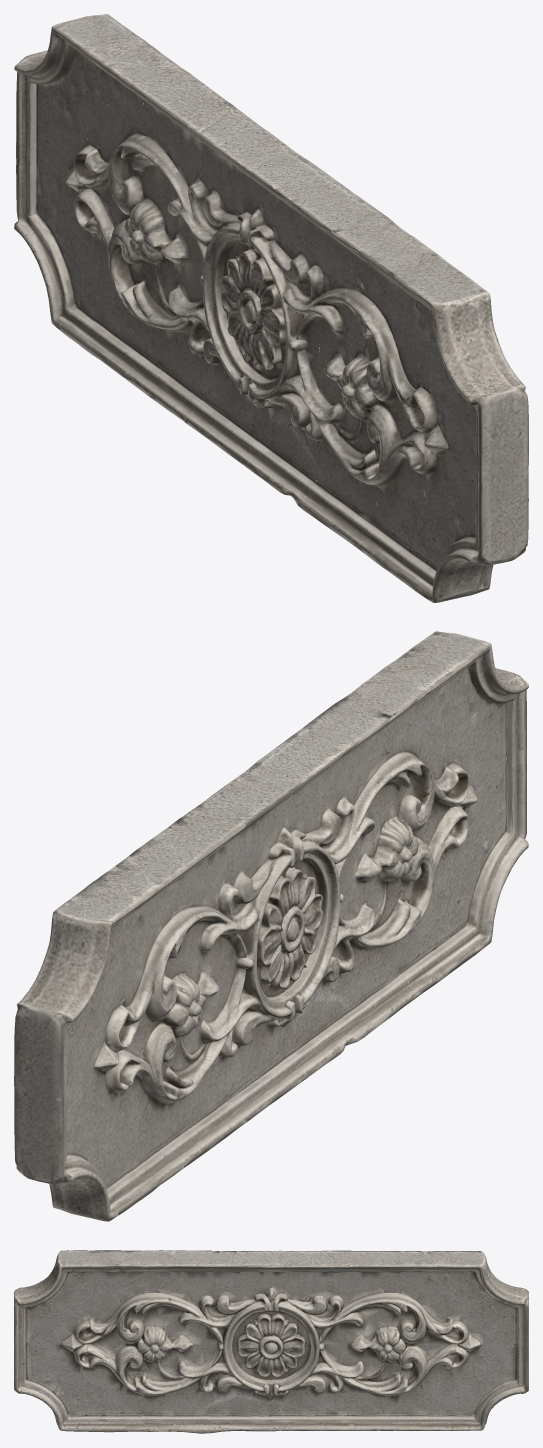
Rendered from relief-3.glb.
3 views of the same model, one above another, from view 1: azimuth 30°, elevation 25°; view 2: azimuth 150°, elevation 25°; view 3: azimuth 270°, elevation 25° (orthographic). The views are drawn at different scales.
Parts seen in each view (by area): view 1: tripo_node_004425e2-77a5-410d-890e-c9652fd64f14; view 2: tripo_node_004425e2-77a5-410d-890e-c9652fd64f14; view 3: tripo_node_004425e2-77a5-410d-890e-c9652fd64f14.
Boxes of the visible parts, box(x1,y1,x2,y2) form: tripo_node_004425e2-77a5-410d-890e-c9652fd64f14: box(14, 14, 528, 602); tripo_node_004425e2-77a5-410d-890e-c9652fd64f14: box(14, 631, 528, 1221); tripo_node_004425e2-77a5-410d-890e-c9652fd64f14: box(14, 1250, 528, 1433).
Size of the model in its own units: 0.0881 by 0.3605 by 1.
Materials: 1 (1 with a texture image).
